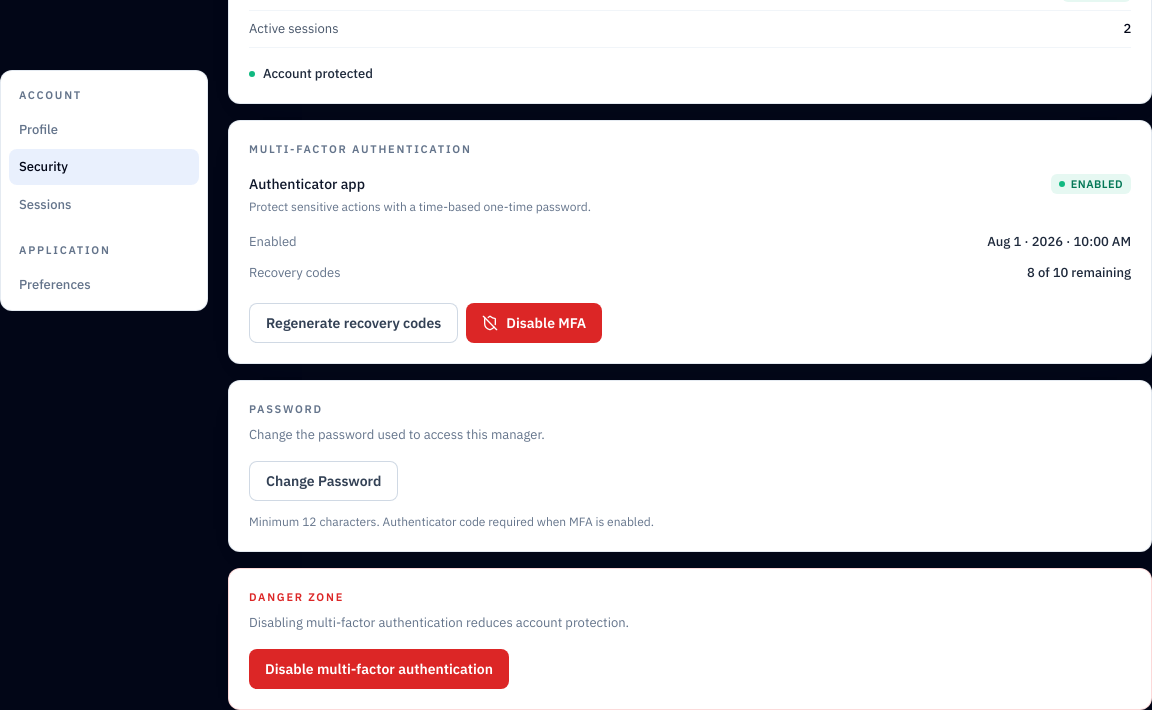
Test: Settings page › requires authenticator code on password change when MFA is enabled
(page scrolled)
Expected: the text "Account protected" is shown, [263,64,373,83]
Click the button "Change Password". click: x=324, y=481
box: [249,461,398,501]
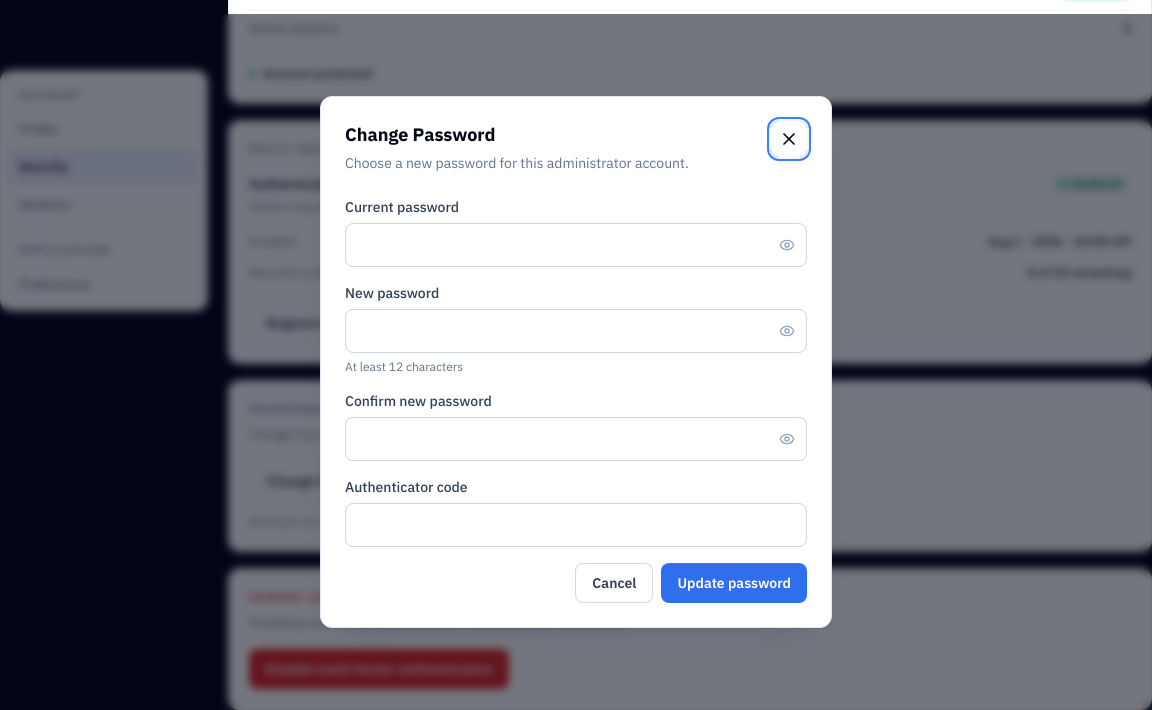
Expected: the field labelled "Authenticator code" is shown, [345,503,807,547]
